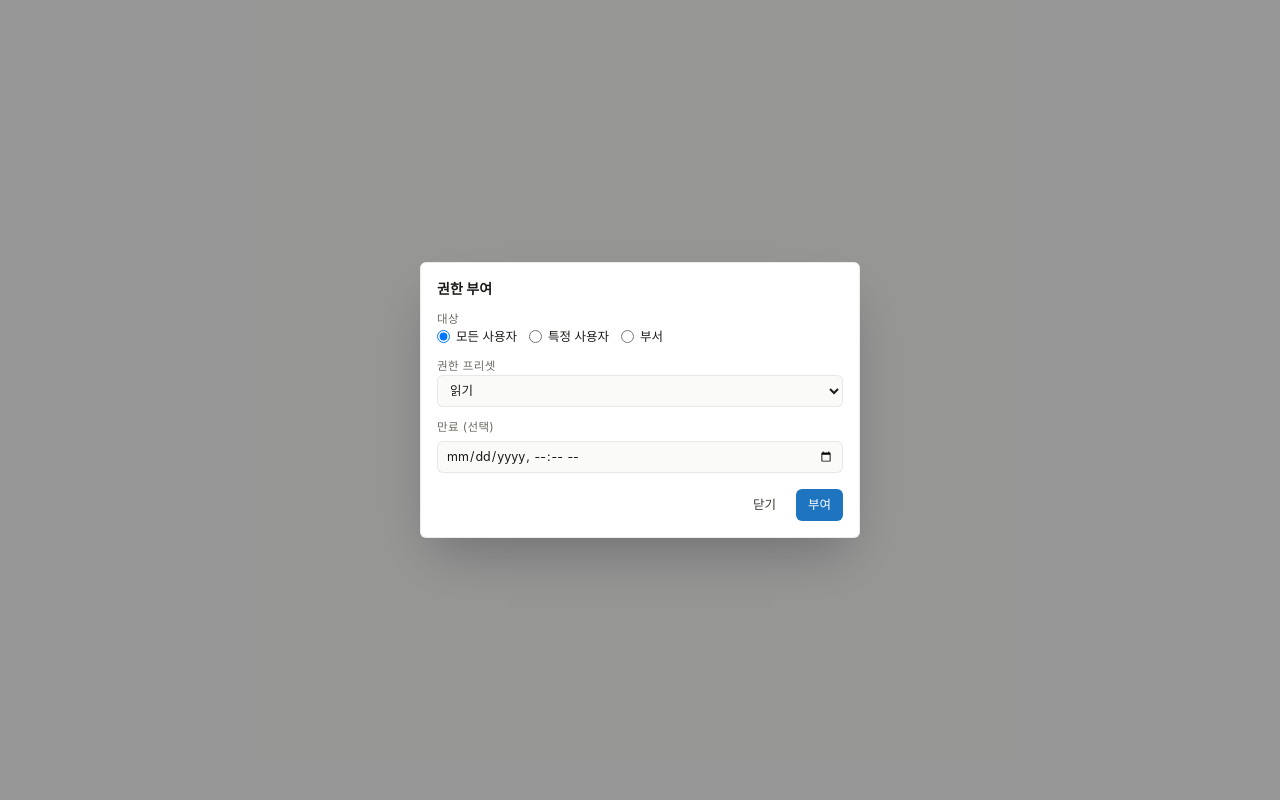
Scenario: GrantPermissionDialog › Phase C: department 라디오 클릭 → DepartmentSearchCombobox 노출
Expected: the field with placeholder "부서 이름" is not shown
What coordinates should you click on to do the following:
click the radio button labelled "부서"
I would click on:
 (628, 337)
Its box is [621, 330, 634, 343].
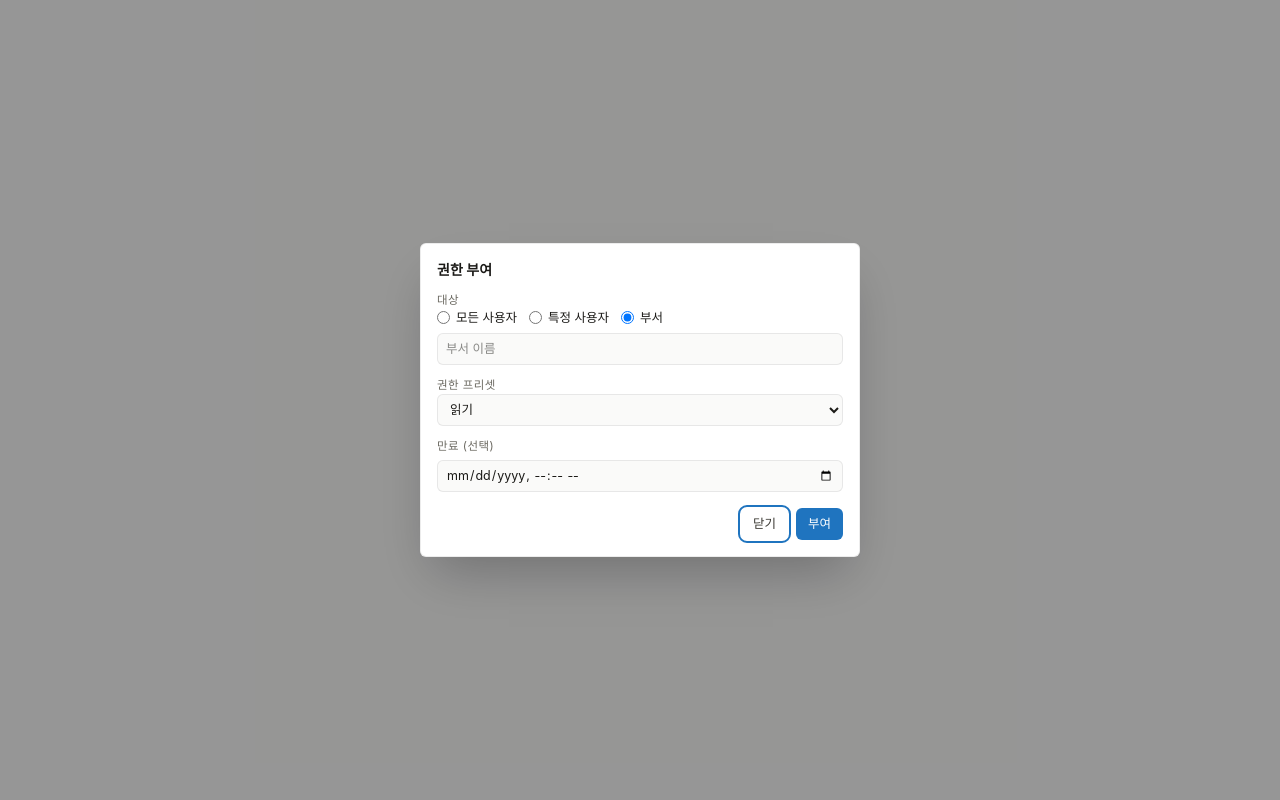
Result: the dropdown with placeholder "부서 이름" is shown at [437, 333, 843, 365]
